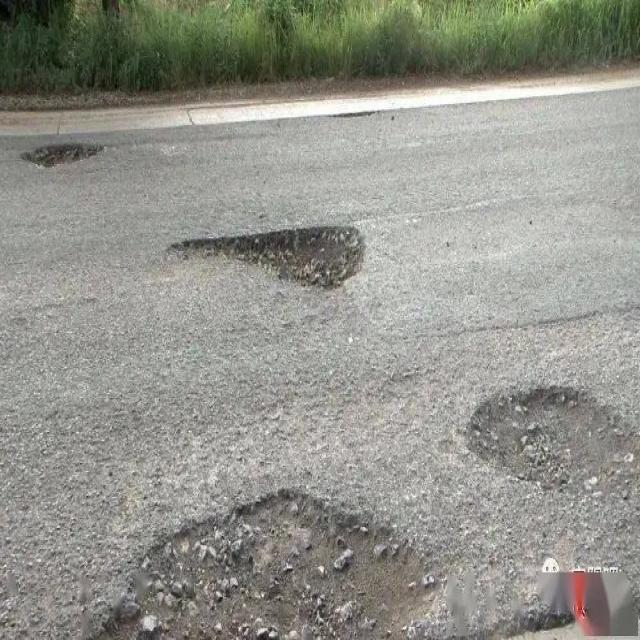Pothole: (95, 497, 438, 639), (453, 368, 639, 519), (164, 208, 367, 302), (15, 142, 109, 170)
